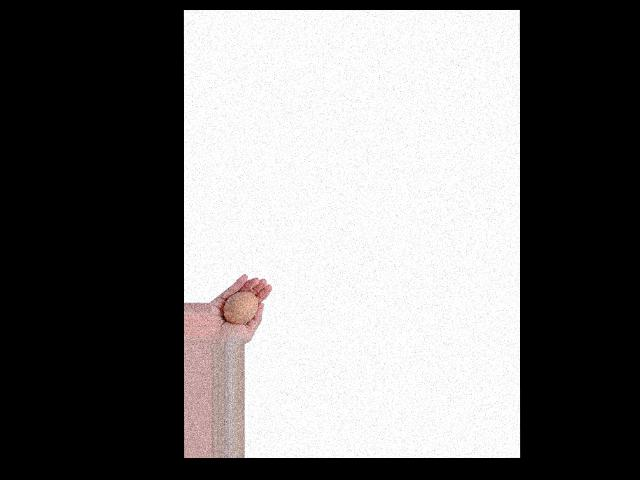egg: (223, 290, 257, 323)
